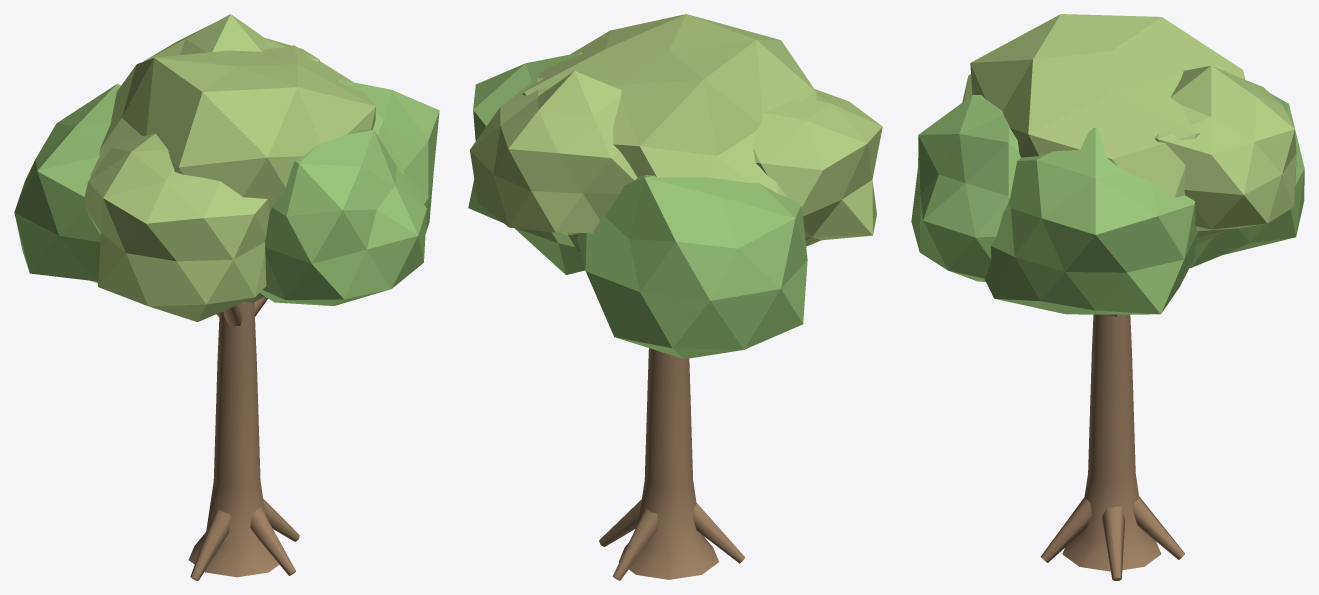
The model's file is tree_broad_1.fbx.
3 renders of one model, left to right at view 1: azimuth 30°, elevation 25°; view 2: azimuth 150°, elevation 25°; view 3: azimuth 270°, elevation 25°, orthographic. The views are drawn at different scales.
Visible parts, largest first — view 1: tree_broad_1; view 2: tree_broad_1; view 3: tree_broad_1.
Boxes of the visible parts, x1,y1,x2,y2 form: tree_broad_1: (14,14,439,580); tree_broad_1: (468,14,882,580); tree_broad_1: (911,14,1304,580).
Size of the model in its own units: 4.41 by 5.79 by 4.06.
